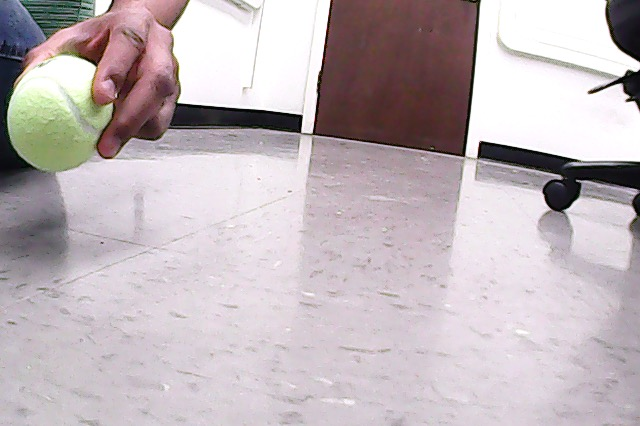ball: (9, 57, 114, 171)
